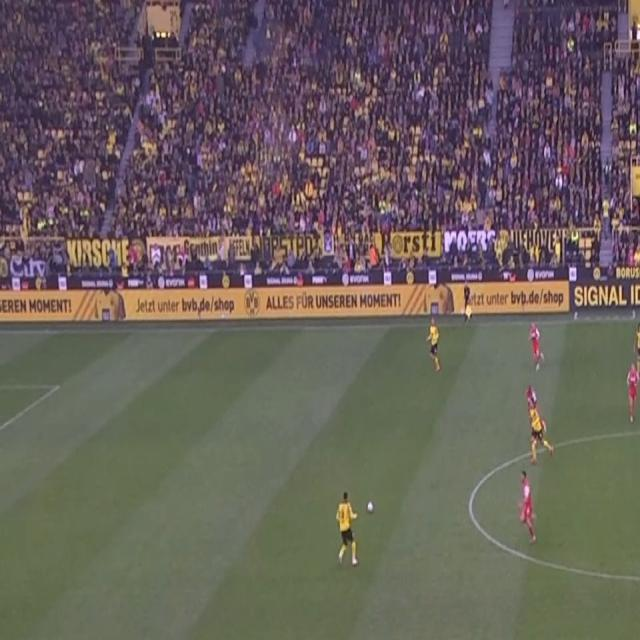ball: (367, 499, 374, 514)
